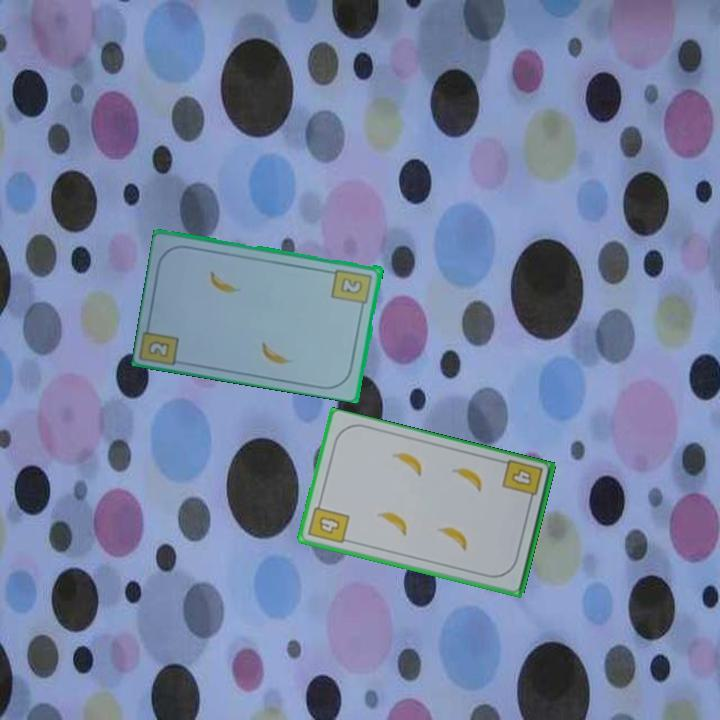2b: (329, 265, 375, 312), (144, 337, 173, 360)
4b: (305, 497, 352, 547), (499, 456, 545, 507)
